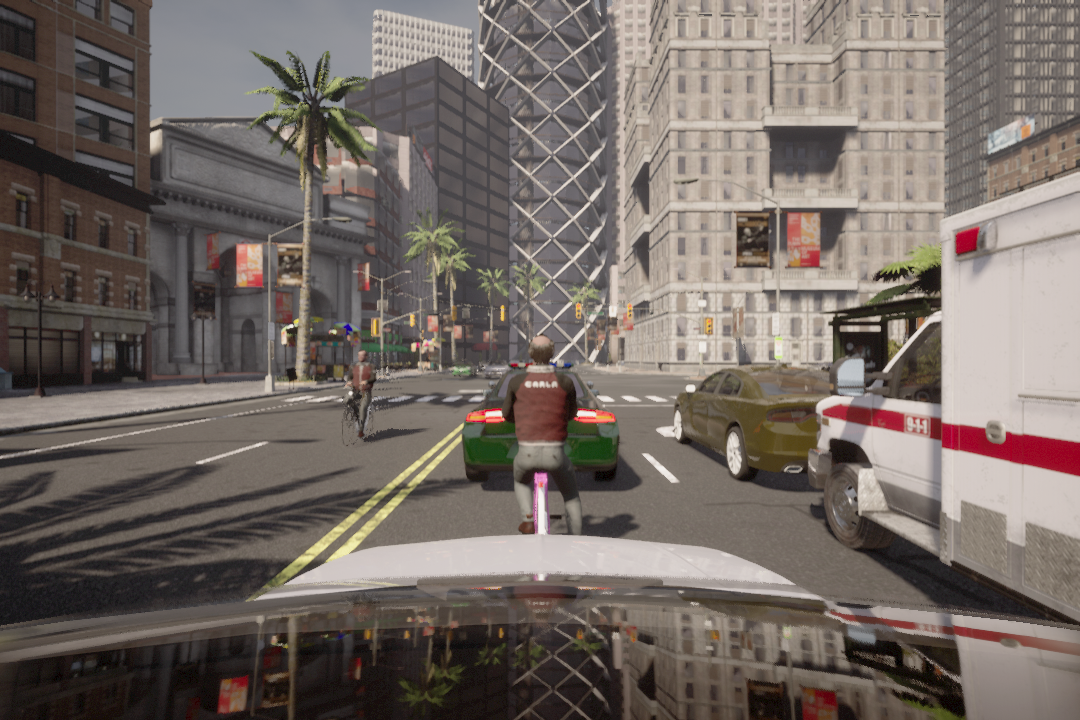walkside: (274, 392, 701, 404)
